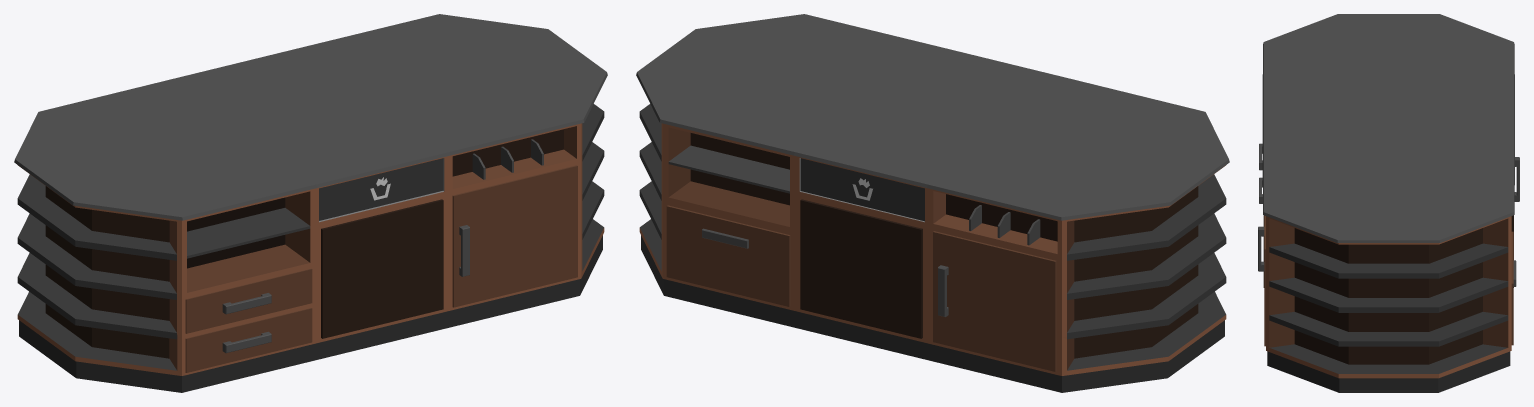
File: Large Hexagonal Food Counter w_Garbages Brown.fbx
3 renders of one model, left to right at view 1: azimuth 30°, elevation 25°; view 2: azimuth 150°, elevation 25°; view 3: azimuth 270°, elevation 25°, orthographic. The views are drawn at different scales.
Visible parts, largest first — view 1: Large Hexagonal Food Counter w_Garbages Brown; view 2: Large Hexagonal Food Counter w_Garbages Brown; view 3: Large Hexagonal Food Counter w_Garbages Brown.
Part boxes in pixels (box(x1,y1,x2,y2)): Large Hexagonal Food Counter w_Garbages Brown: box(14, 14, 607, 392); Large Hexagonal Food Counter w_Garbages Brown: box(636, 14, 1229, 392); Large Hexagonal Food Counter w_Garbages Brown: box(1258, 14, 1519, 392).
Bounding box in the file's own units: 304 × 96.66 × 149.
Materials: 1 (1 with a texture image).
